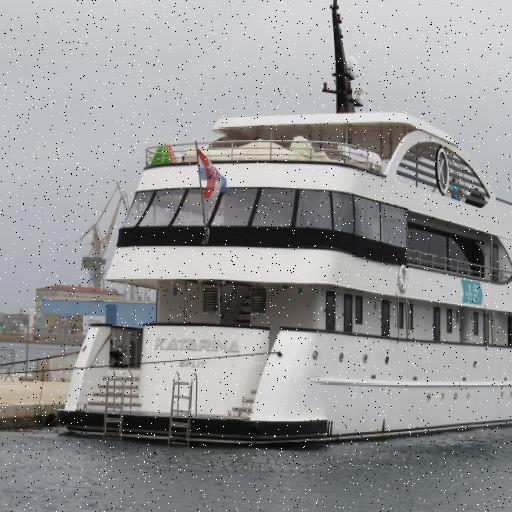cruises: (52, 1, 512, 454)
